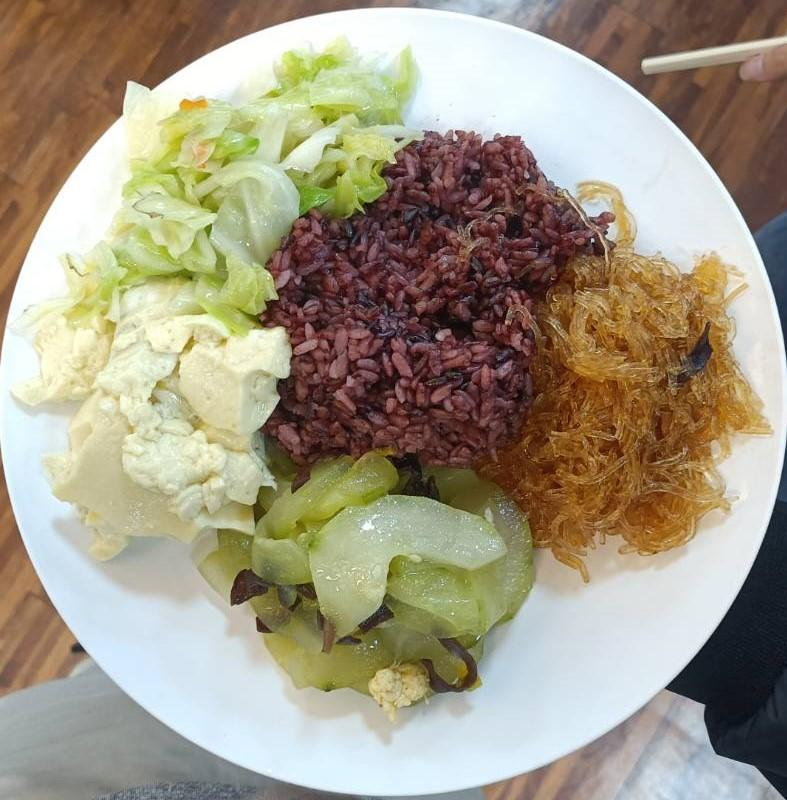big fried chicken leg: (0, 15, 787, 799)
braised fish: (261, 135, 582, 466)
braised fish fillet: (60, 34, 426, 302), (27, 270, 292, 554), (228, 467, 532, 704), (529, 242, 739, 559)
